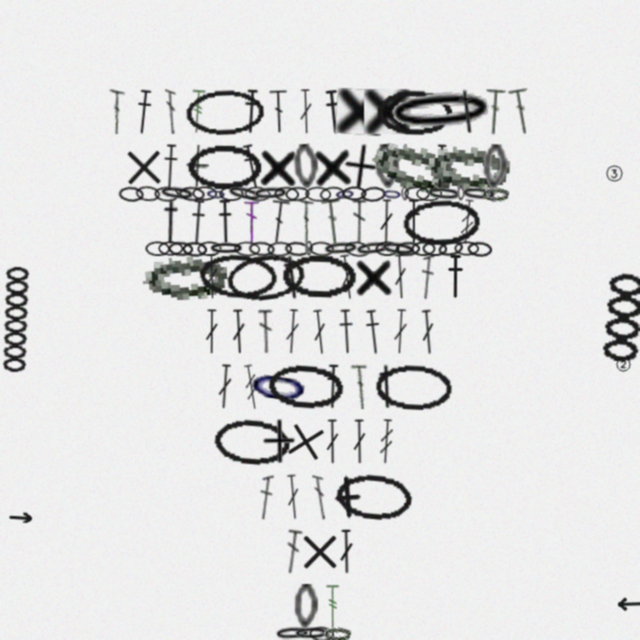chain: (383, 85, 499, 138), (368, 135, 460, 198), (224, 250, 308, 304), (142, 252, 228, 302), (425, 143, 510, 191), (334, 471, 413, 522), (212, 416, 291, 467), (266, 362, 346, 412), (198, 252, 279, 301), (374, 363, 454, 411), (185, 88, 264, 136), (402, 198, 480, 246), (281, 253, 358, 300), (245, 360, 313, 413), (376, 89, 452, 135), (187, 144, 263, 189), (292, 143, 320, 190), (373, 143, 401, 190), (482, 144, 508, 190), (294, 584, 318, 629), (225, 183, 264, 205), (379, 239, 417, 259), (354, 239, 392, 258), (158, 184, 196, 203), (425, 185, 463, 203), (460, 185, 498, 203), (322, 240, 360, 257), (252, 185, 289, 202), (274, 625, 311, 640), (208, 241, 245, 256), (293, 626, 330, 640), (437, 239, 464, 258), (344, 240, 371, 258), (319, 185, 345, 203), (481, 186, 509, 202), (135, 185, 161, 202), (248, 241, 275, 257), (178, 186, 205, 202), (244, 186, 271, 202), (234, 241, 260, 257), (284, 241, 310, 257), (118, 186, 144, 202), (305, 186, 331, 202), (360, 186, 386, 202), (168, 241, 193, 257), (182, 241, 207, 257), (267, 241, 292, 257), (309, 241, 334, 257), (395, 241, 420, 257), (467, 241, 492, 257), (154, 186, 179, 202), (274, 186, 299, 202), (285, 186, 310, 202), (323, 626, 351, 640), (404, 186, 430, 201), (416, 186, 442, 201), (145, 241, 170, 256), (158, 241, 183, 256), (197, 241, 222, 256), (375, 241, 400, 256), (411, 241, 436, 256), (422, 241, 447, 256), (454, 241, 479, 256), (192, 186, 217, 201), (219, 186, 244, 201), (342, 186, 367, 201), (205, 186, 227, 202), (334, 186, 356, 202), (381, 186, 403, 202), (309, 626, 334, 640), (305, 241, 313, 256), (401, 186, 409, 201), (457, 186, 465, 201)
double: (508, 88, 535, 135), (267, 199, 291, 245), (321, 199, 345, 245), (484, 89, 506, 135), (283, 529, 303, 575), (337, 254, 357, 300), (269, 89, 289, 134), (310, 309, 329, 355), (350, 364, 369, 409), (284, 474, 302, 520), (419, 309, 437, 355), (216, 364, 234, 409), (230, 309, 247, 354), (284, 309, 301, 354), (392, 309, 409, 354), (392, 254, 409, 299), (432, 144, 449, 189), (108, 89, 125, 134), (258, 474, 274, 520), (312, 474, 328, 520), (258, 309, 274, 354), (204, 254, 220, 299), (298, 199, 314, 244), (298, 89, 314, 134), (339, 529, 354, 574), (325, 419, 340, 464), (352, 419, 367, 464), (204, 309, 219, 354), (420, 254, 435, 299), (244, 199, 259, 244), (352, 199, 367, 244), (379, 199, 394, 244), (165, 89, 177, 134)
enseble_chain: (597, 271, 640, 368), (0, 266, 31, 374)
half_double: (453, 88, 482, 135), (278, 254, 307, 300), (157, 199, 185, 245), (239, 143, 264, 190), (374, 364, 400, 409), (322, 89, 344, 135), (363, 309, 384, 355), (133, 89, 154, 135), (188, 199, 208, 245), (337, 309, 356, 354), (161, 144, 180, 189), (242, 89, 261, 134), (324, 364, 342, 409), (446, 254, 464, 299), (216, 199, 234, 244), (405, 199, 422, 244)
noise: (604, 163, 625, 184), (615, 596, 640, 611), (614, 355, 632, 373), (8, 512, 34, 523)
single: (279, 415, 332, 468), (335, 88, 384, 136), (323, 473, 371, 521), (121, 144, 166, 190), (364, 89, 410, 134), (311, 143, 355, 190), (297, 529, 342, 574), (257, 144, 300, 190), (340, 142, 380, 191), (353, 254, 395, 299), (261, 419, 296, 464), (186, 144, 210, 189)
treble: (241, 364, 262, 410), (458, 199, 477, 245), (189, 89, 207, 134), (378, 419, 395, 464), (325, 584, 341, 629)
